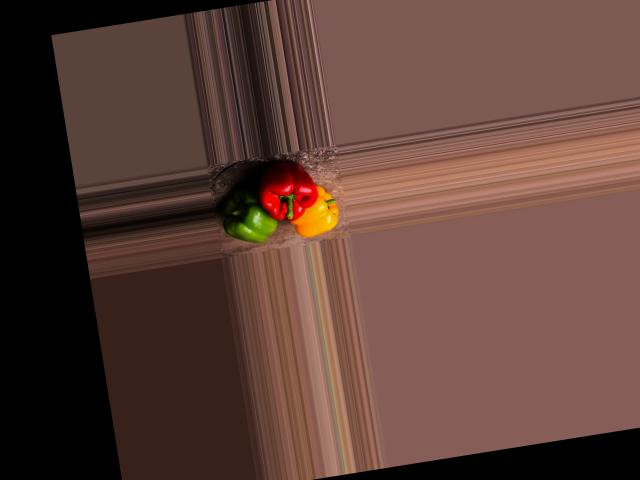bell_pepper: (288, 182, 341, 241)
